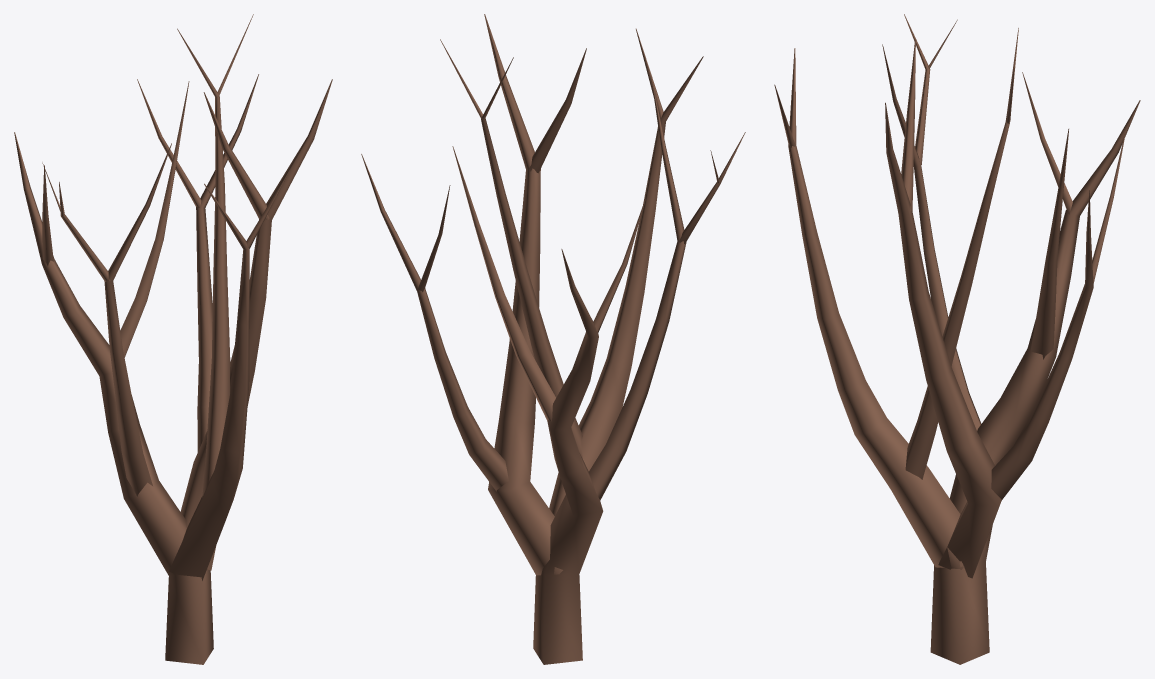
File: Bush_Dead.glb
The picture shows the model from 3 angles, left to right: view 1: azimuth 30°, elevation 25°; view 2: azimuth 150°, elevation 25°; view 3: azimuth 270°, elevation 25°; orthographic projection. The views are drawn at different scales.
Parts seen in each view (by area): view 1: Bush_Dead; view 2: Bush_Dead; view 3: Bush_Dead.
Part boxes in pixels (x1,y1,x2,y2): Bush_Dead: (14, 14, 332, 664); Bush_Dead: (361, 14, 745, 664); Bush_Dead: (774, 14, 1140, 664).
Bounding box in the file's own units: 1.19 × 2.38 × 1.25.
